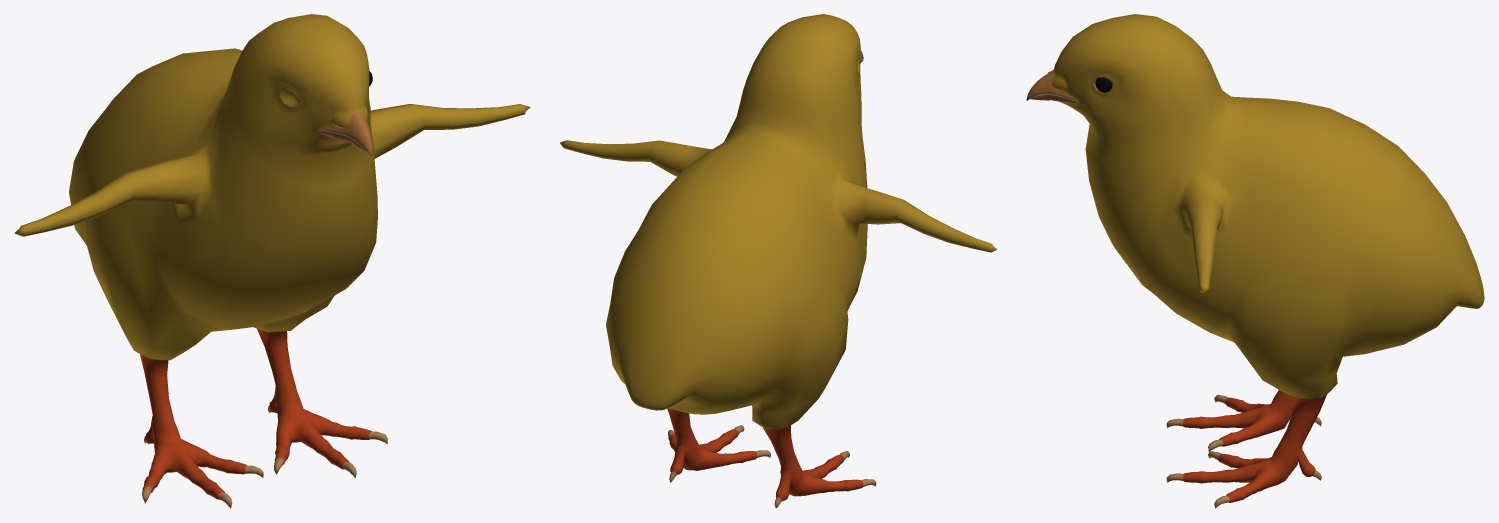
The model's file is chick.obj.
3 views of the same model, side by side, from view 1: azimuth 30°, elevation 25°; view 2: azimuth 150°, elevation 25°; view 3: azimuth 270°, elevation 25° (orthographic). The views are drawn at different scales.
Parts seen in each view (by area): view 1: chick; view 2: chick; view 3: chick.
Part boxes in pixels (left/top/right/bottom): chick: left=14, top=14, right=530, bottom=508; chick: left=560, top=14, right=996, bottom=508; chick: left=1026, top=14, right=1484, bottom=508.
Size of the model in its own units: 0.1541 by 0.1382 by 0.1318.
